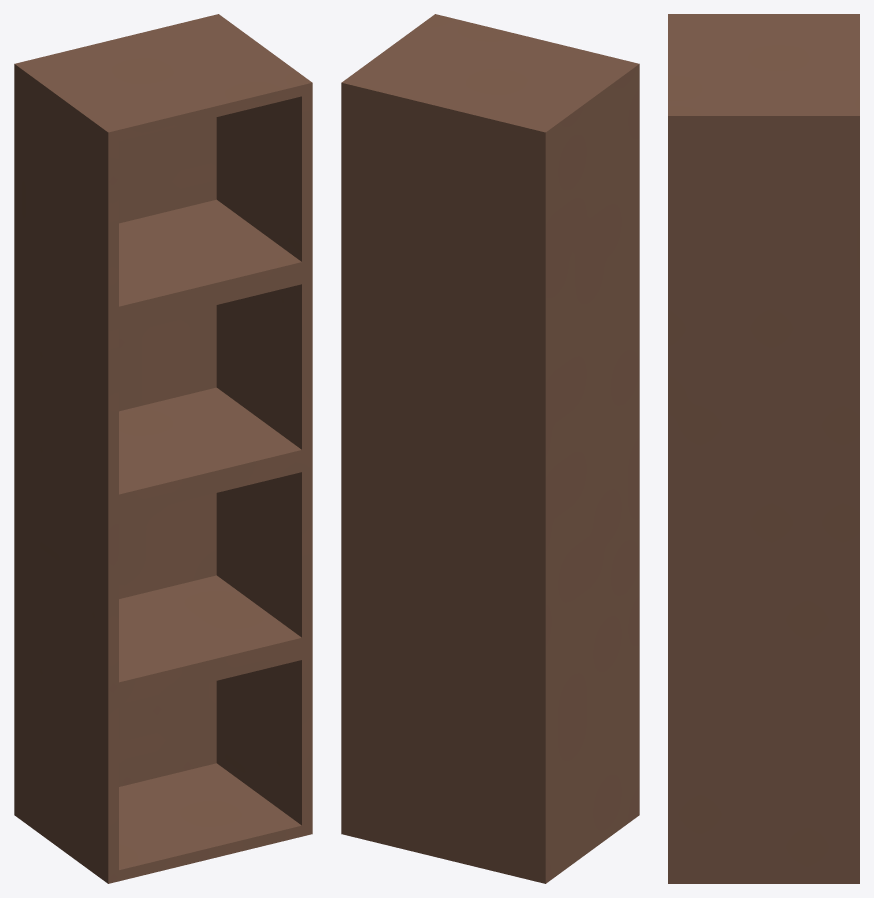
Rendered from Shelf_01_01.fbx.
3 views of the same model, side by side, from view 1: azimuth 30°, elevation 25°; view 2: azimuth 150°, elevation 25°; view 3: azimuth 270°, elevation 25° (orthographic). The views are drawn at different scales.
Parts seen in each view (by area): view 1: Shelf_01_01; view 2: Shelf_01_01; view 3: Shelf_01_01.
Part boxes in pixels (box(x1,y1,x2,y2)): Shelf_01_01: box(14, 14, 312, 883); Shelf_01_01: box(341, 14, 639, 883); Shelf_01_01: box(668, 14, 859, 883).
Bounding box in the file's own units: 0.4966 × 1.75 × 0.3952.
